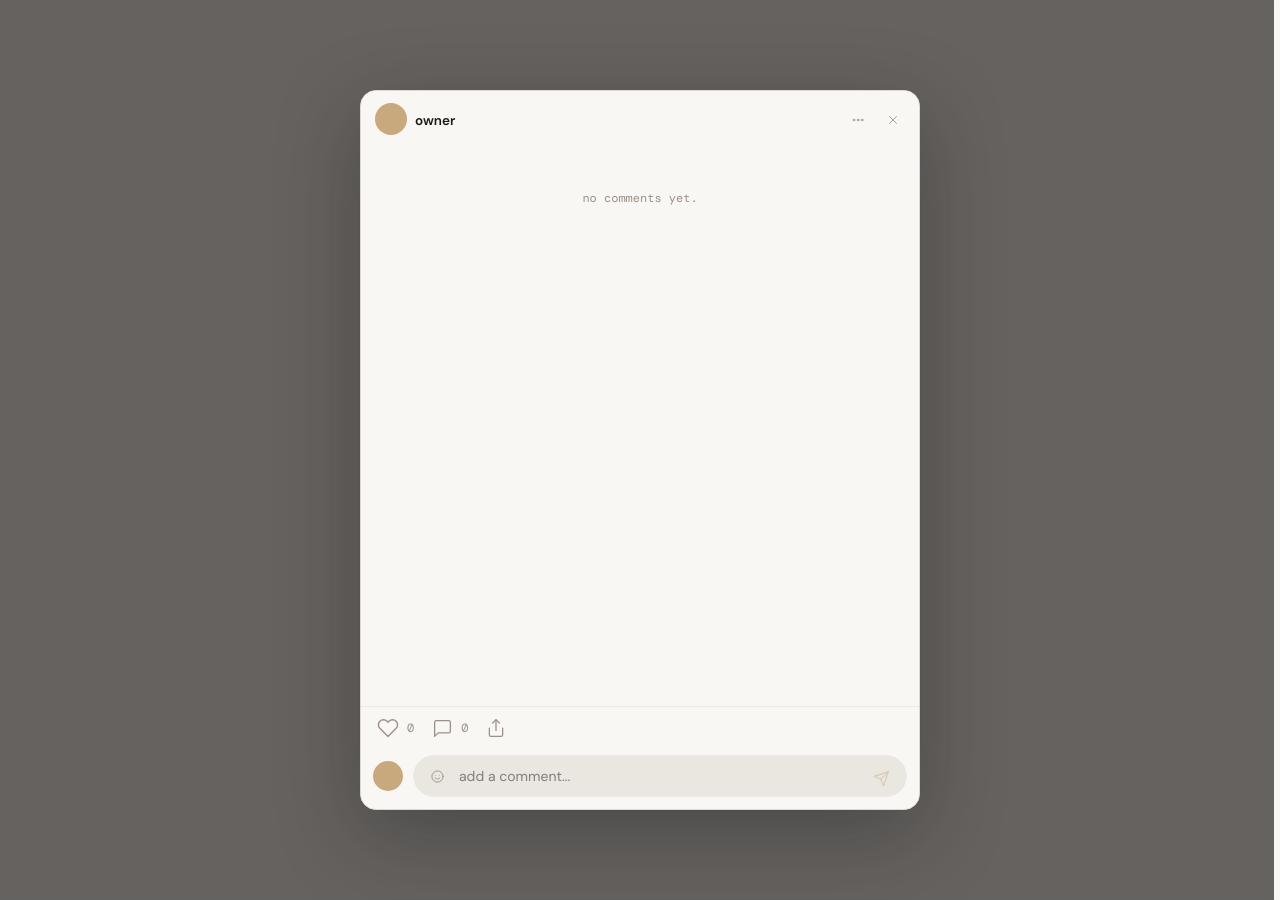
Test: PostDetailScreen hidden comments entry › closes the panel on Escape before the post overlay closes
This screenshot has width=1280, height=900.
Click the button named "post options" at [858, 120], box [846,108,870,132]
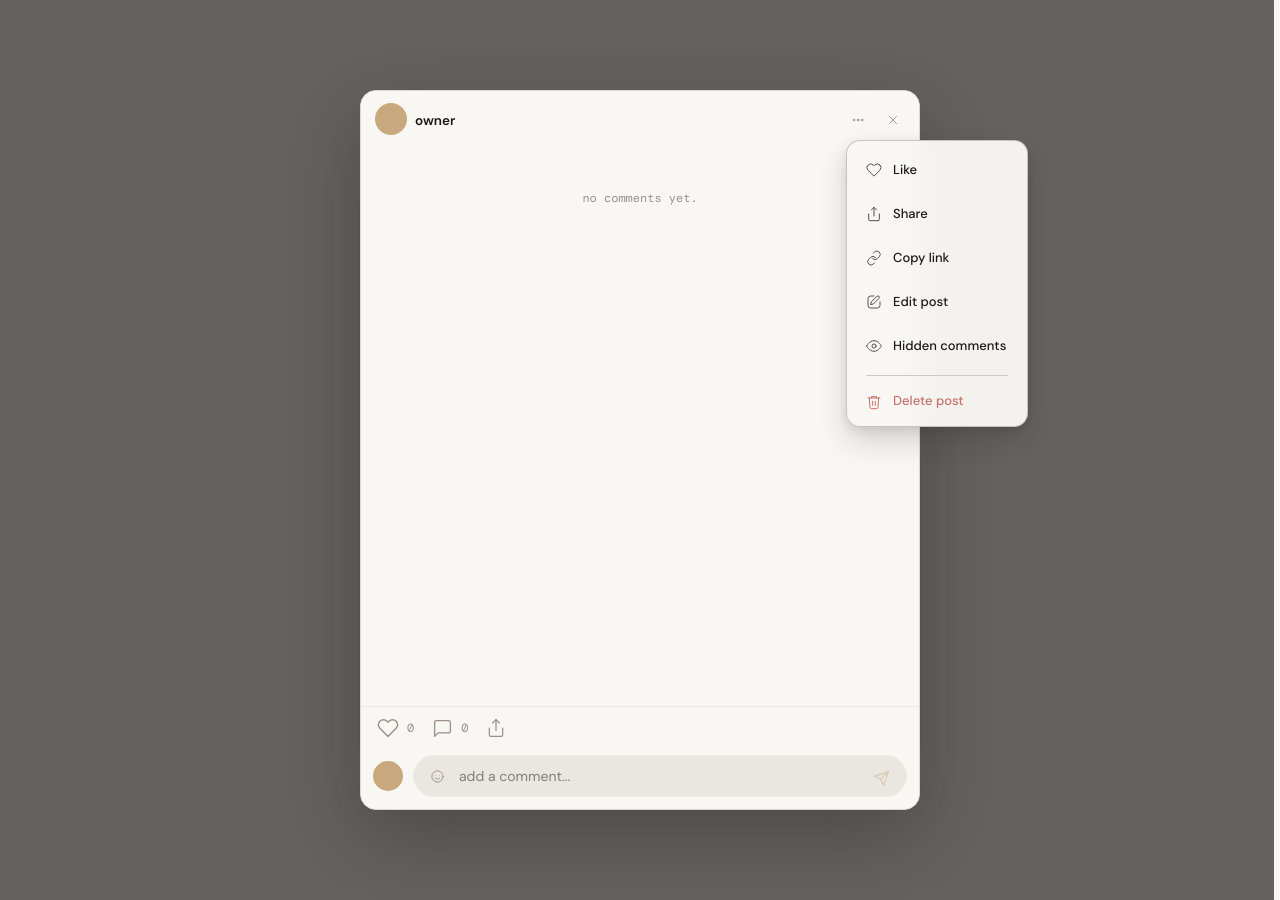
Click the button "Hidden comments" at [937, 346], box [854,324,1020,368]
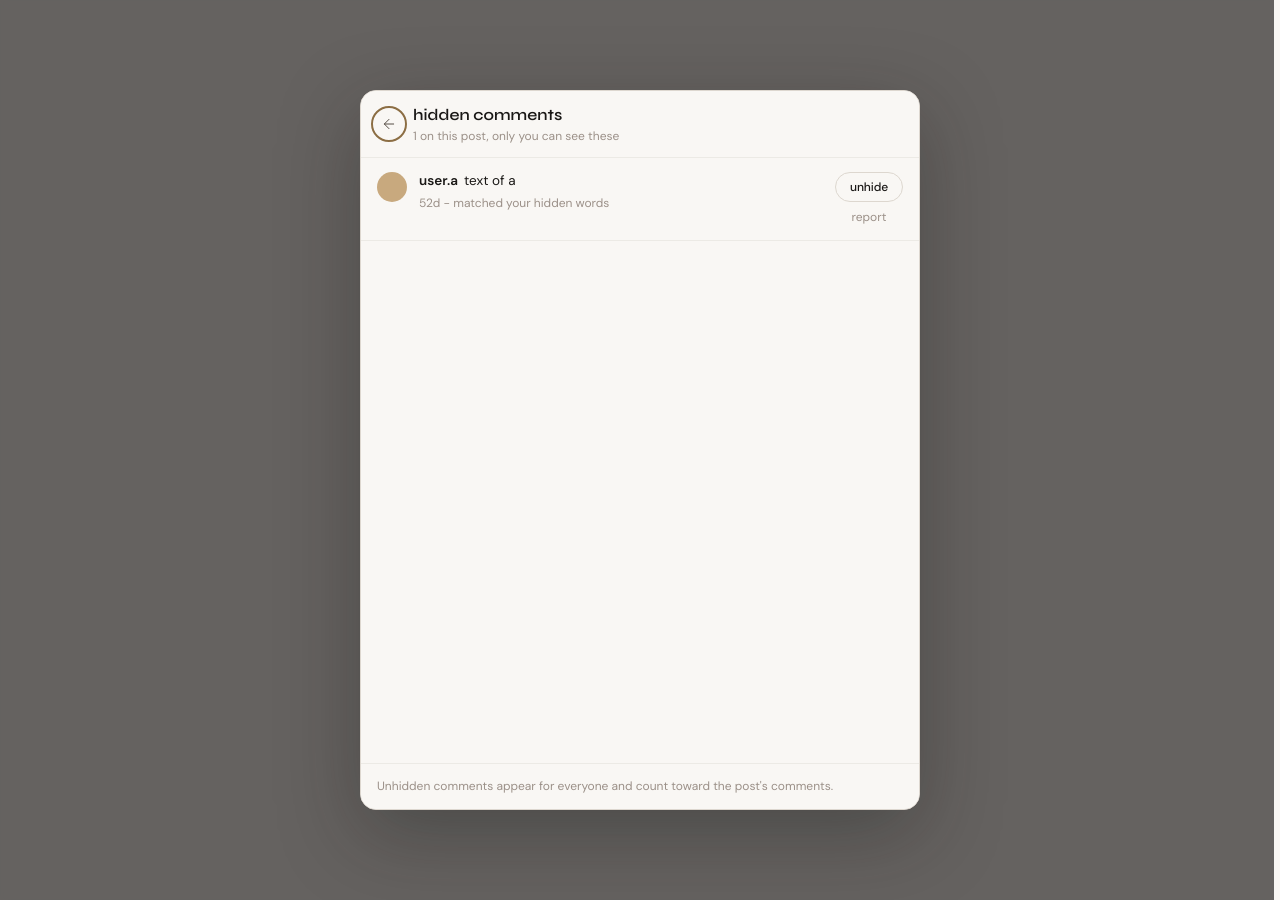
Check: the element with test id "hidden-comment-a" is shown, box [361,158,919,241]
Press Escape
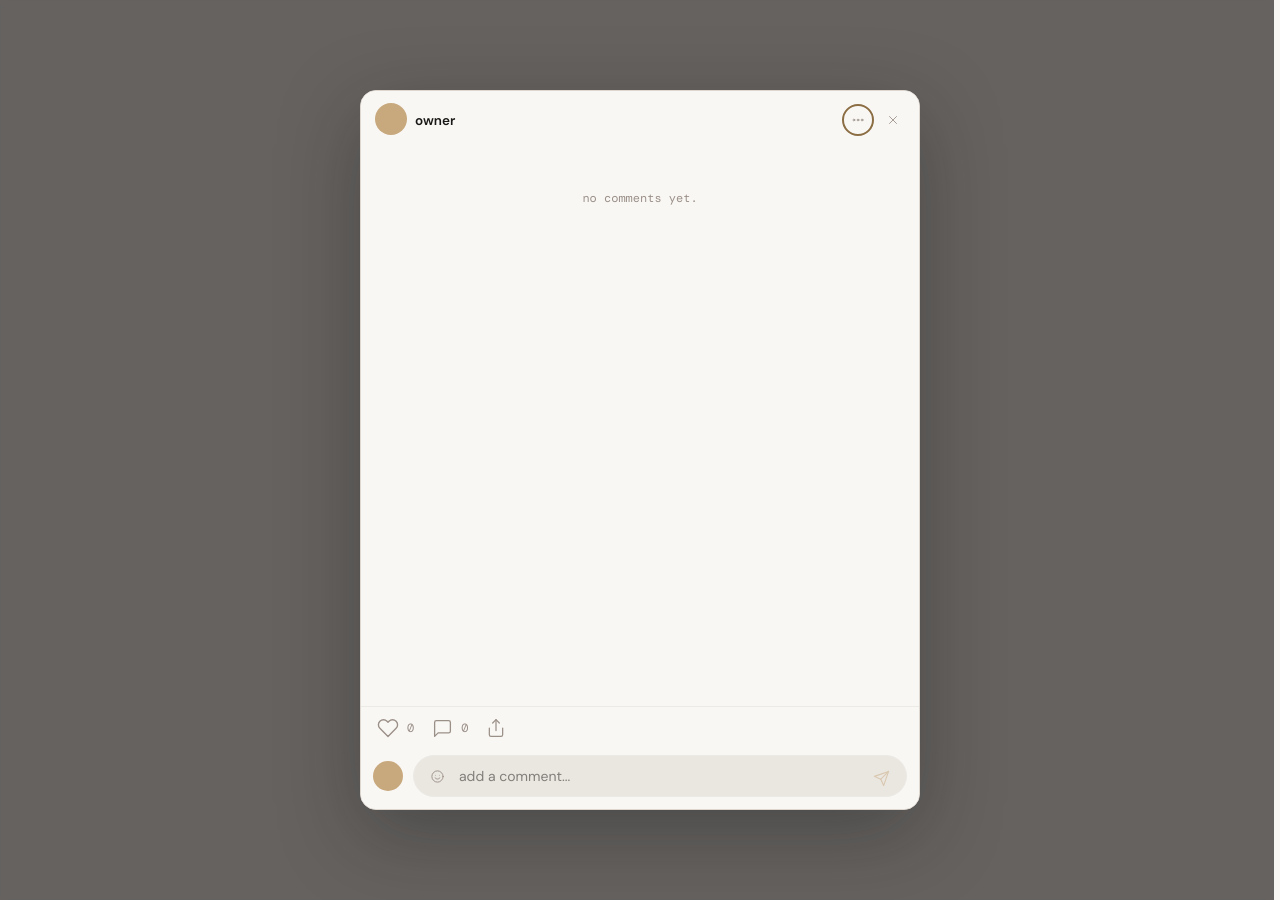
Check: the element with test id "hidden-comment-a" is gone
